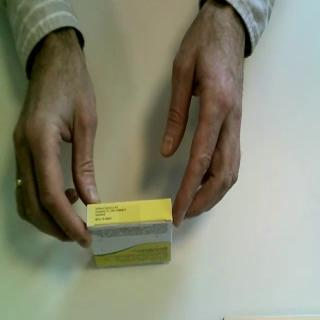buprefarm5ug_hour: (86, 197, 174, 271)
